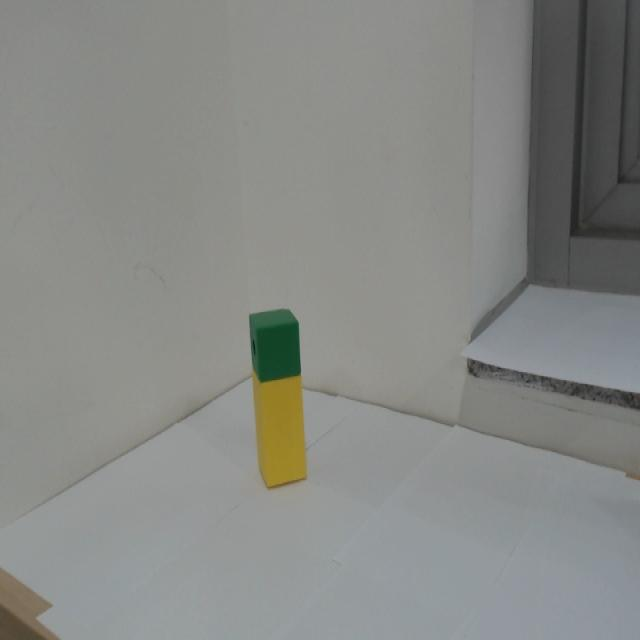cube: (248, 307, 302, 383)
